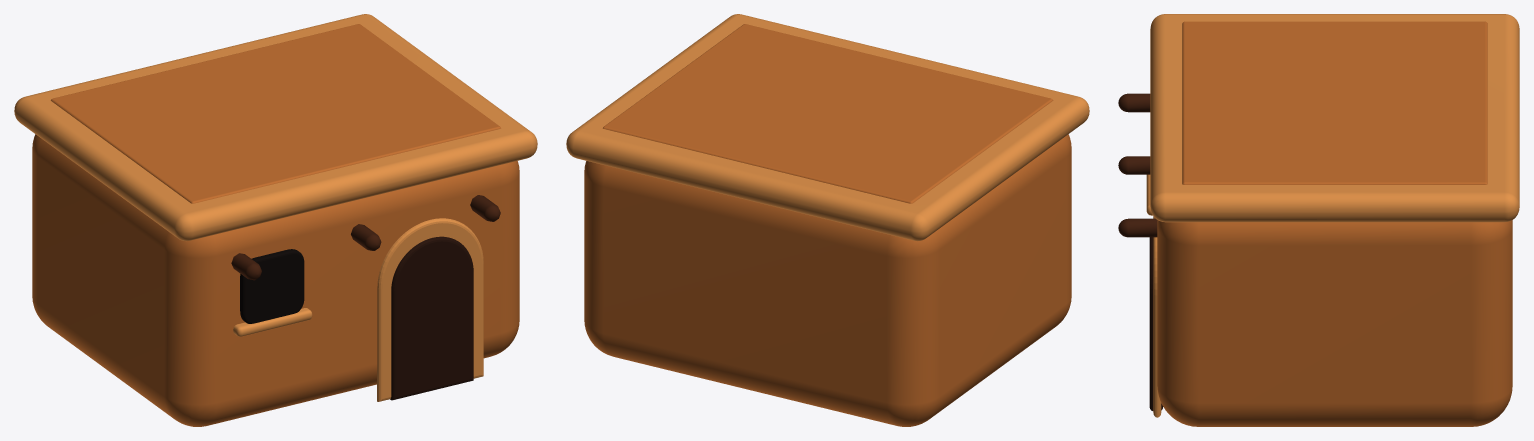
File: adobe_b.glb
3 views of the same model, side by side, from view 1: azimuth 30°, elevation 25°; view 2: azimuth 150°, elevation 25°; view 3: azimuth 270°, elevation 25° (orthographic). The views are drawn at different scales.
Parts seen in each view (by area): view 1: adobe_b; view 2: adobe_b; view 3: adobe_b.
Boxes of the visible parts, x1=… form: adobe_b: x1=14, y1=14, x2=537, y2=426; adobe_b: x1=566, y1=14, x2=1089, y2=426; adobe_b: x1=1118, y1=14, x2=1519, y2=426.
Size of the model in its own units: 4.54 by 2.8 by 4.07.
